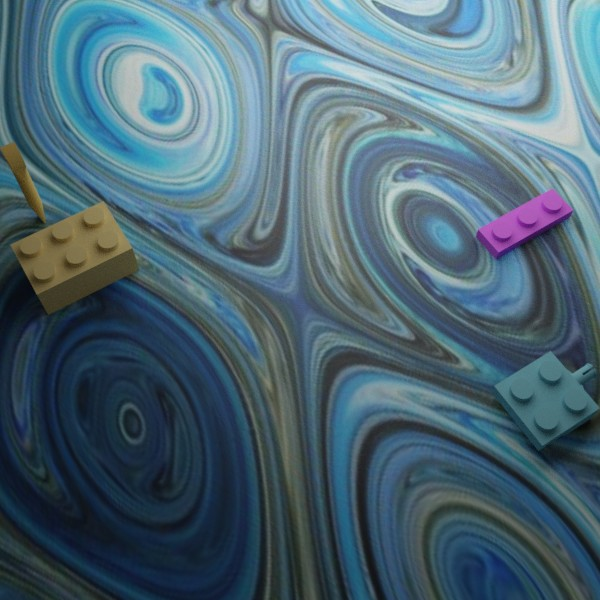lego: (10, 201, 139, 314), (491, 350, 599, 451), (475, 188, 573, 259), (0, 141, 45, 223)
